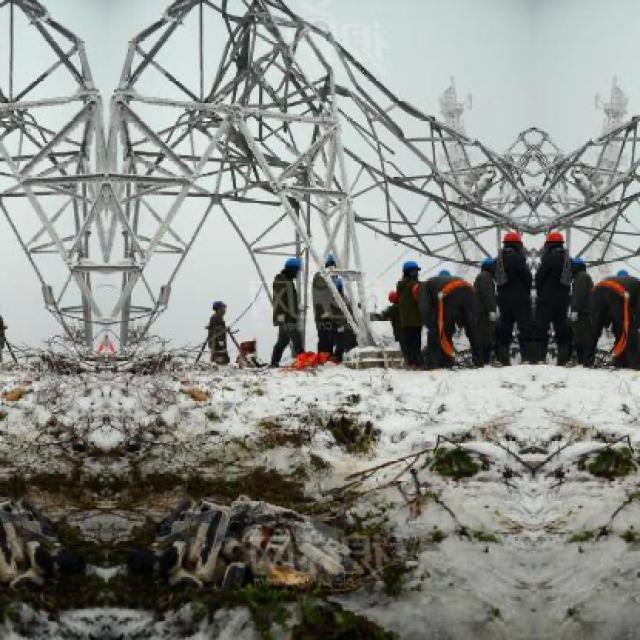con casco: (510, 216, 572, 279), (394, 245, 462, 291), (265, 247, 319, 286), (311, 255, 354, 279)
